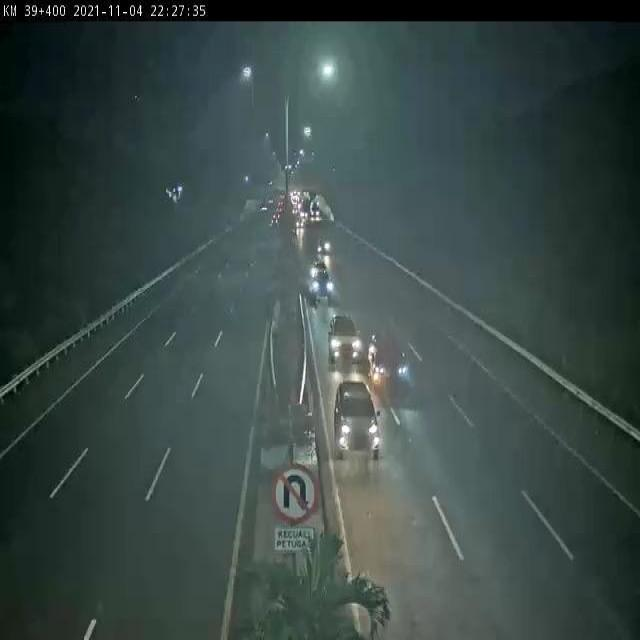car: (333, 380, 380, 461), (369, 334, 408, 390), (328, 315, 360, 357), (310, 271, 332, 297)
